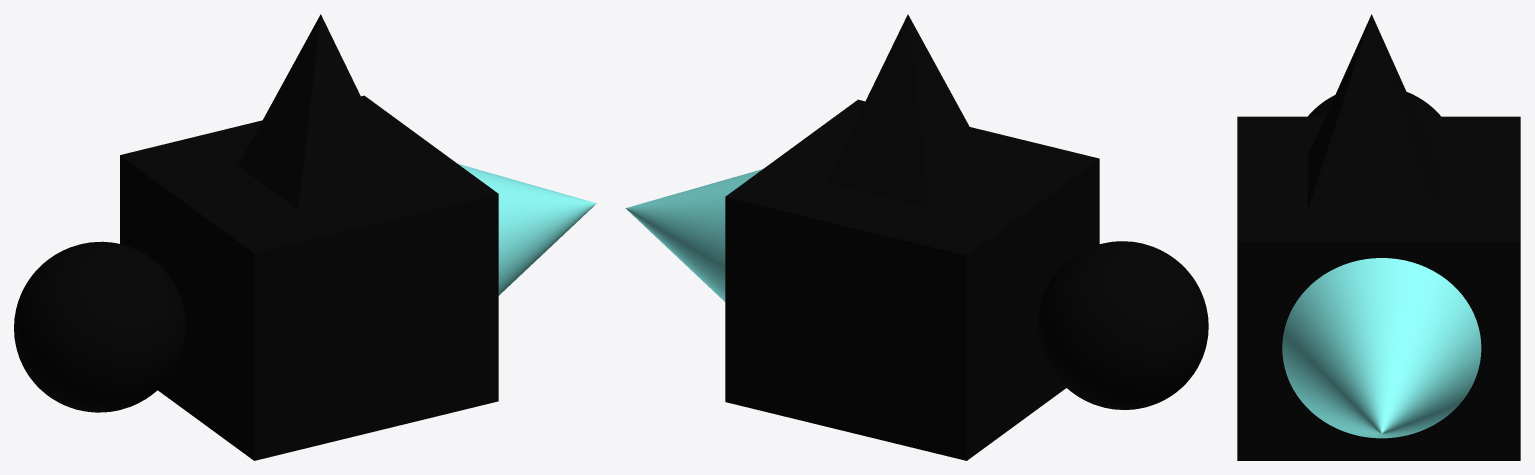
File: miobjecto.glb
3 views of the same model, side by side, from view 1: azimuth 30°, elevation 25°; view 2: azimuth 150°, elevation 25°; view 3: azimuth 270°, elevation 25° (orthographic). The views are drawn at different scales.
Parts seen in each view (by area): view 1: mesh_id27, mesh_id33, mesh_id29, mesh_id31; view 2: mesh_id27, mesh_id33, mesh_id29, mesh_id31; view 3: mesh_id27, mesh_id31, mesh_id29, mesh_id33.
Part boxes in pixels (<box>): mesh_id27: <box>120,95,498,460</box>; mesh_id33: <box>14,241,186,412</box>; mesh_id29: <box>238,14,403,209</box>; mesh_id31: <box>458,164,596,295</box>; mesh_id27: <box>725,99,1099,460</box>; mesh_id33: <box>1038,241,1208,409</box>; mesh_id29: <box>826,14,989,207</box>; mesh_id31: <box>625,169,762,301</box>; mesh_id27: <box>1237,116,1520,460</box>; mesh_id31: <box>1282,258,1481,438</box>; mesh_id29: <box>1307,14,1435,210</box>; mesh_id33: <box>1308,92,1440,116</box>.
Bounding box in the file's own units: 0.5934 × 0.3632 × 0.24.
Materials: 4 (4 with a texture image).
